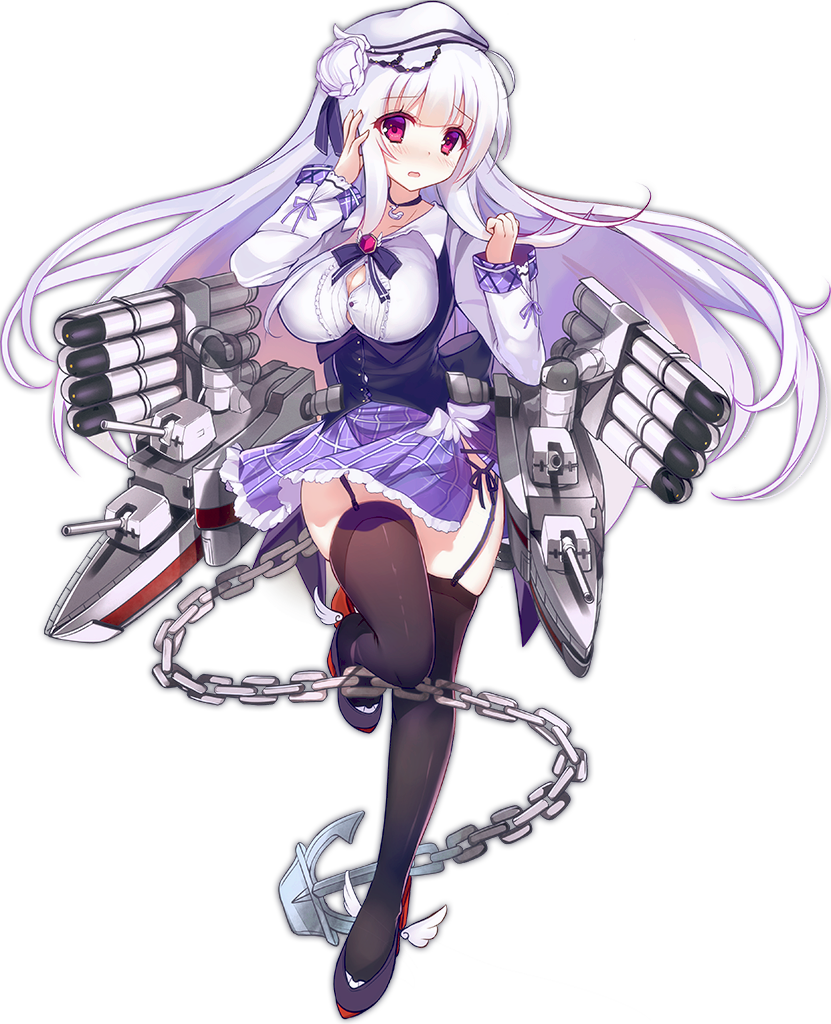person: (151, 1, 639, 858)
